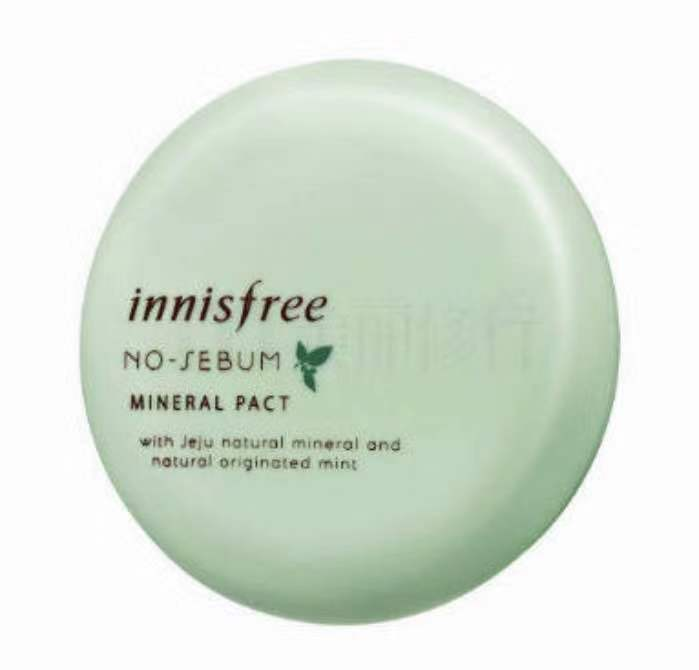cosmetic: (75, 62, 625, 628)
